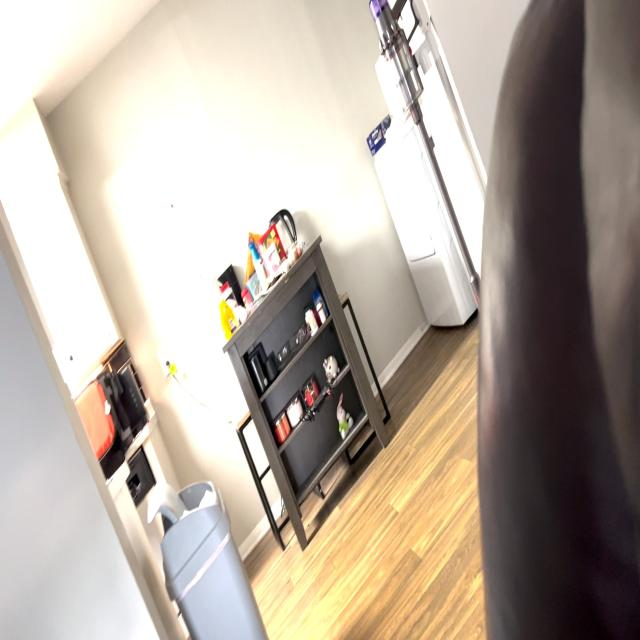drone: (296, 369, 340, 431)
